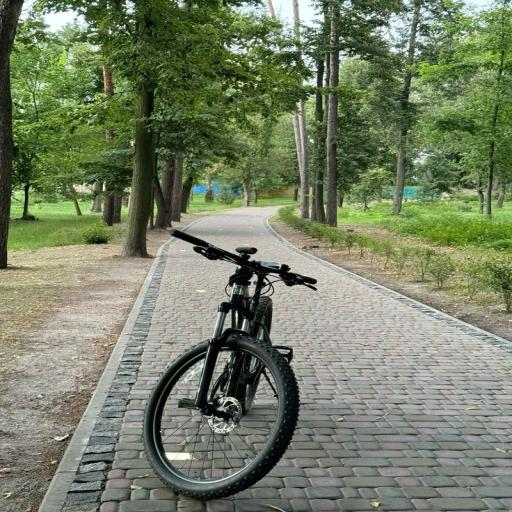bag: (144, 228, 328, 501)
glass_wall: (32, 202, 512, 511)
